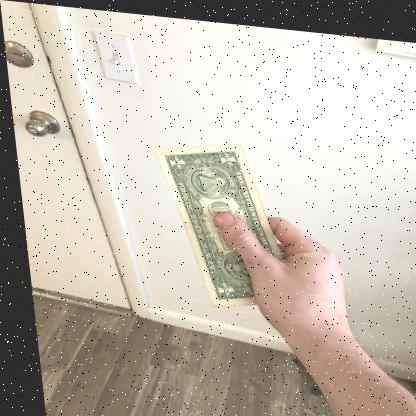one-back: (156, 140, 280, 305)
